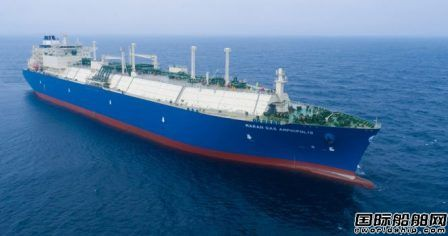Cargoship: (20, 32, 386, 186)
